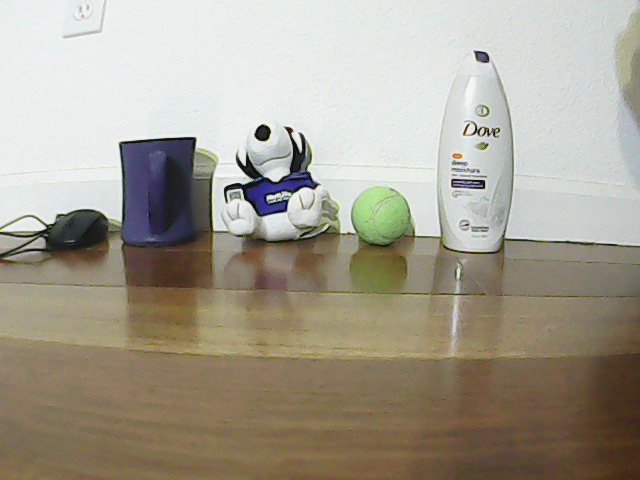ball: (345, 181, 411, 250)
mouse: (38, 196, 107, 252)
mug: (115, 123, 207, 246)
snoopy: (236, 119, 327, 238)
soap: (448, 43, 513, 258)
